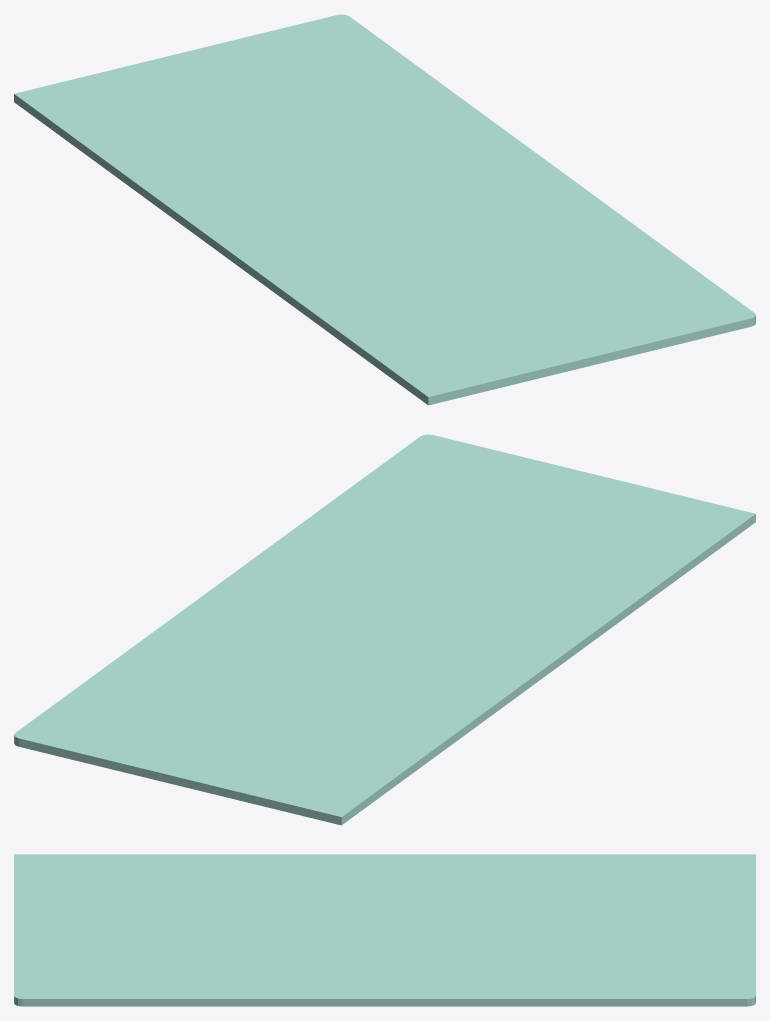
The model's file is shelf_board.dae.
3 renders of one model, top to bottom at view 1: azimuth 30°, elevation 25°; view 2: azimuth 150°, elevation 25°; view 3: azimuth 270°, elevation 25°, orthographic. The views are drawn at different scales.
Parts seen in each view (by area): view 1: Cube_005; view 2: Cube_005; view 3: Cube_005.
Boxes of the visible parts, <box> form: Cube_005: <box>14,14,755,405</box>; Cube_005: <box>14,434,755,825</box>; Cube_005: <box>14,854,755,1006</box>.
Bounding box in the file's own units: 0.415 × 0.9 × 0.01.
